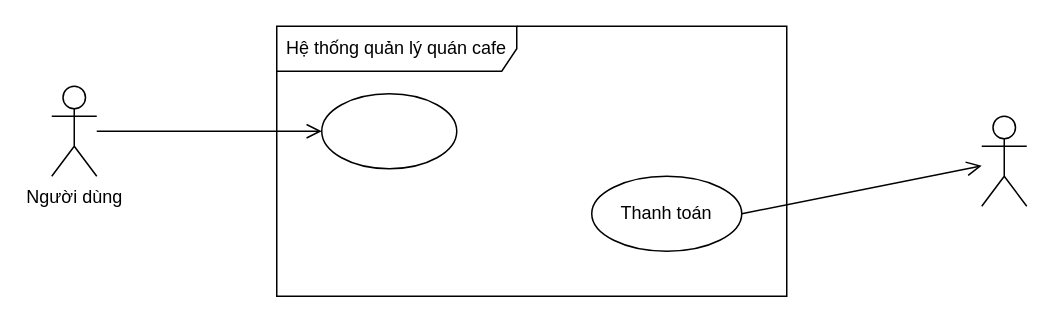
This 1058x323 diagram has some shape labels left out. The shapes that lost their labels are listed below. From the top down, each one's centre as x and y in pixels, then its label:
the point at 388,130: Đăng nhập
the point at 1003,160: VNPay
